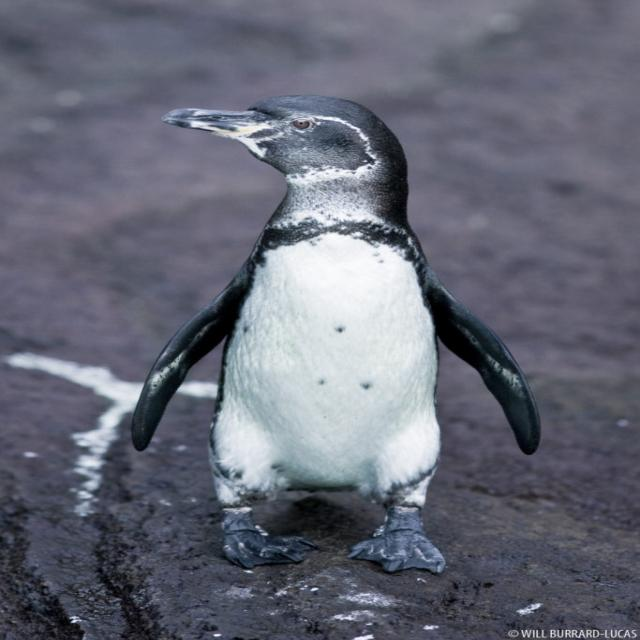Penguins: (146, 85, 462, 579)
